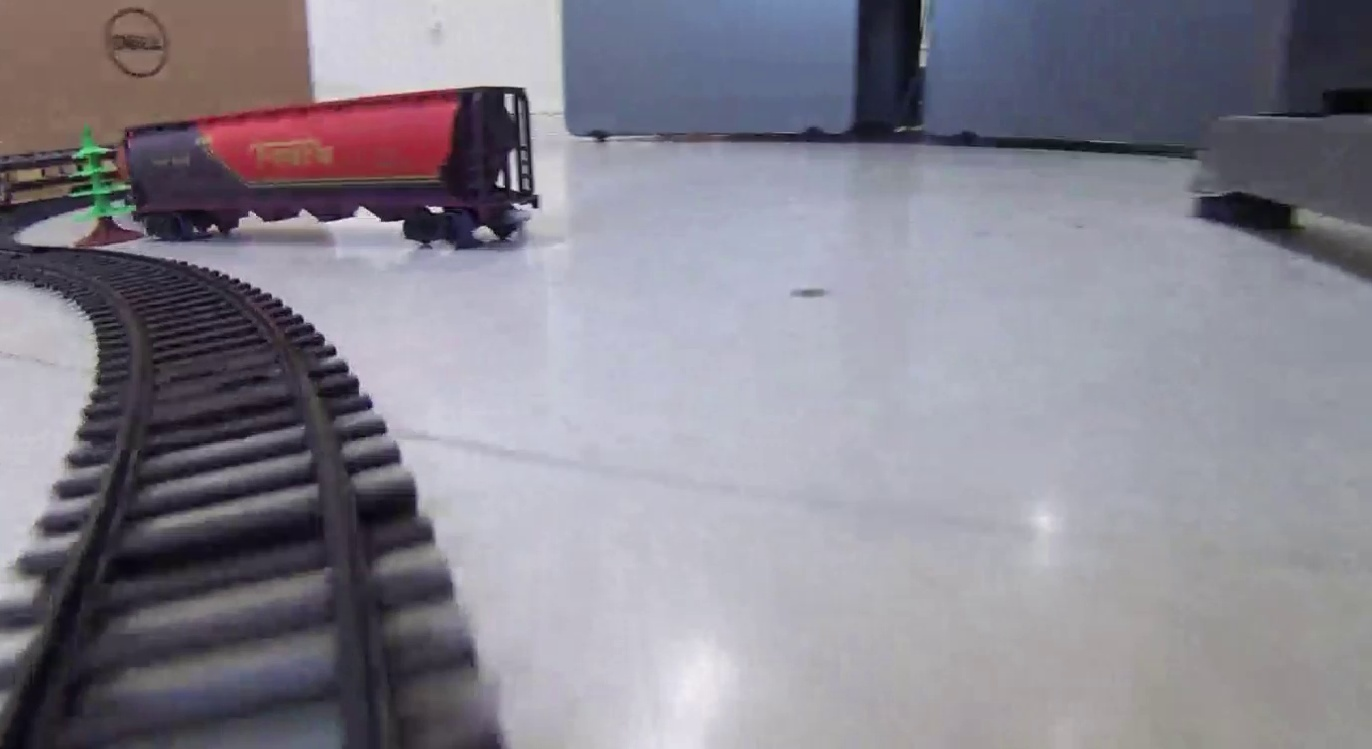tree: (62, 129, 142, 248)
